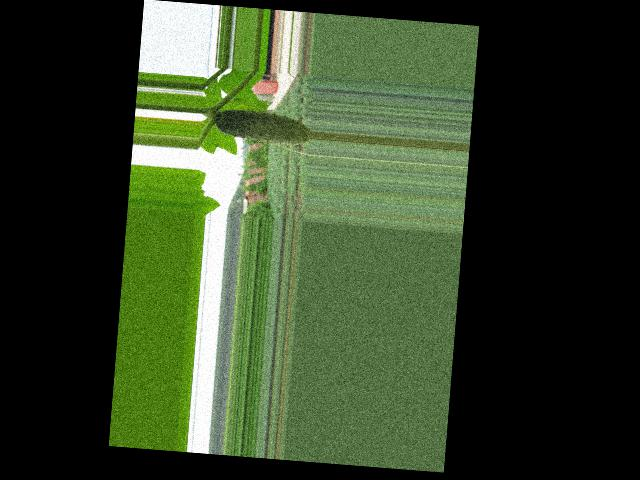cucumber: (214, 108, 312, 146)
